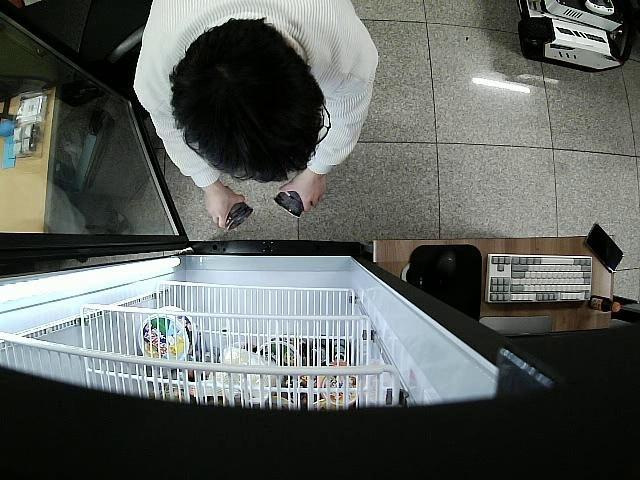08_buldak_S: (220, 185, 253, 231), (272, 187, 304, 217)
